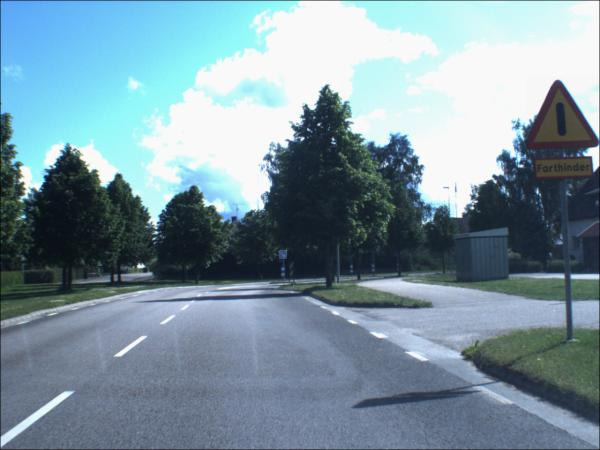PASS_RIGHT_SIDE: (280, 251, 289, 261)
WARNING: (527, 78, 600, 152)
